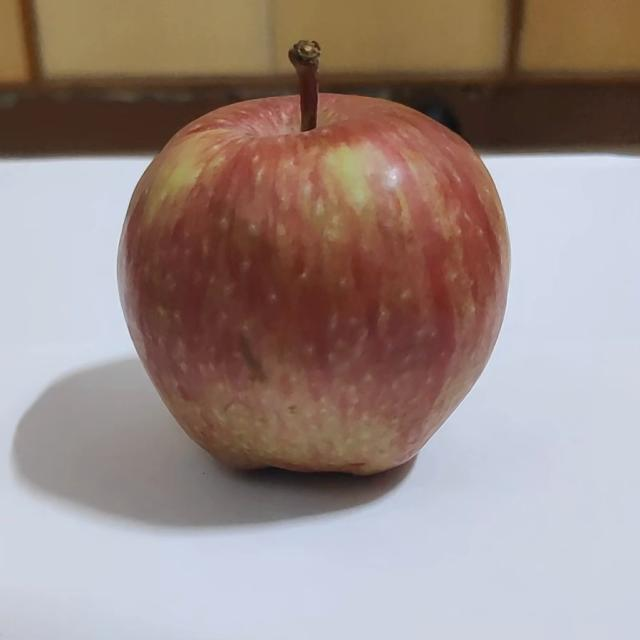apple: (108, 37, 514, 490)
